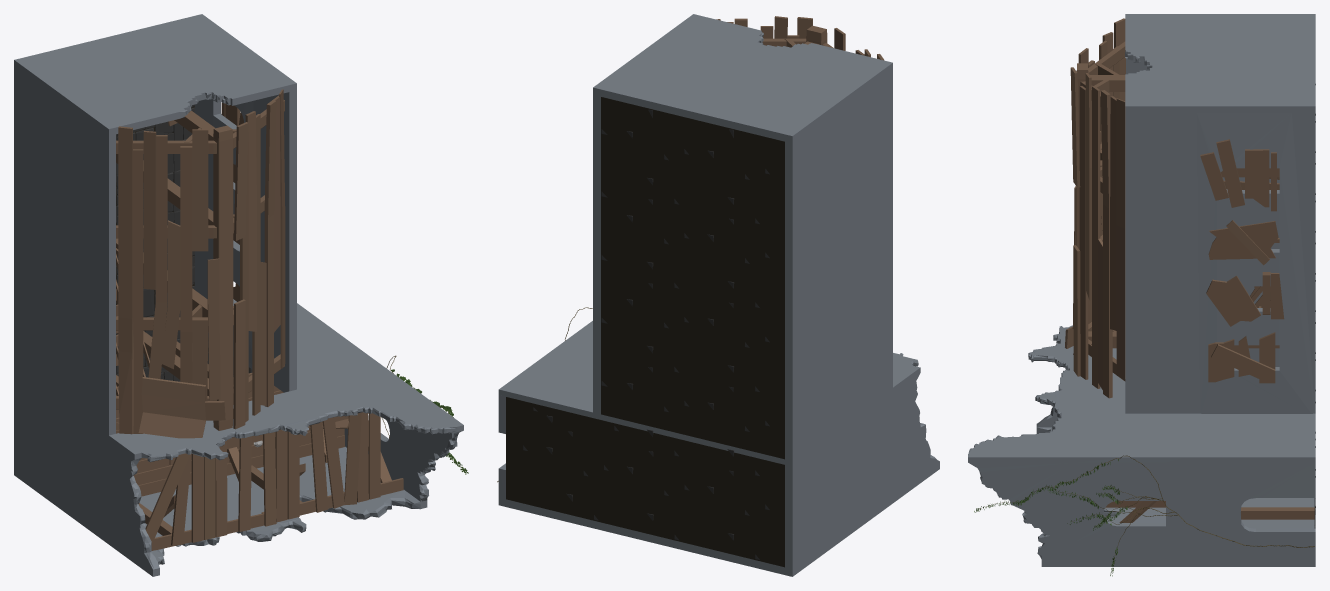
Rendered from ruins0.obj.
3 renders of one model, left to right at view 1: azimuth 30°, elevation 25°; view 2: azimuth 150°, elevation 25°; view 3: azimuth 270°, elevation 25°, orthographic. The views are drawn at different scales.
Parts seen in each view (by area): view 1: Wall.001, Wall, Roof.001, Roof.002, Roof, RoofSupport, LargeRoomFloor, Floor.001_Cube.006, Support.002, RoofSupport.001, Support; view 2: Wall.001, LargeRoomFloor, Floor_Cube.114, Wall, Roof, RoofSupport; view 3: Wall.001, Wall, Roof, WoodenPlanks.002, Roof.001, RoofSupport, Support.002, Support.001, IvyLeavesOld_leaf_adult, IvyBranches_branch.
Part boxes in pixels (box(x1,y1,x2,y2)): Wall.001: box(14, 14, 296, 440); Wall: box(14, 303, 463, 576); Roof.001: box(118, 126, 225, 438); Roof.002: box(145, 412, 391, 545); Roof: box(233, 89, 285, 429); RoofSupport: box(116, 100, 284, 430); LargeRoomFloor: box(116, 104, 194, 335); Floor.001_Cube.006: box(116, 373, 344, 496); Support.002: box(116, 111, 236, 395); RoofSupport.001: box(151, 413, 403, 550); Support: box(138, 429, 327, 535); Wall.001: box(593, 14, 892, 466); LargeRoomFloor: box(601, 97, 784, 459); Floor_Cube.114: box(506, 397, 784, 567); Wall: box(498, 321, 939, 576); Roof: box(716, 16, 812, 38); RoofSupport: box(762, 25, 833, 47); Wall.001: box(1125, 14, 1315, 413); Wall: box(968, 325, 1315, 566); Roof: box(1070, 67, 1125, 398); WoodenPlanks.002: box(1200, 139, 1284, 383); Roof.001: box(1065, 18, 1125, 354); RoofSupport: box(1076, 41, 1125, 381); Support.002: box(1088, 62, 1279, 348); Support.001: box(1241, 507, 1314, 519); IvyLeavesOld_leaf_adult: box(974, 459, 1127, 576); IvyBranches_branch: box(979, 455, 1314, 563).
Bounding box in the file's own units: 11.17 × 14.5 × 10.86.
